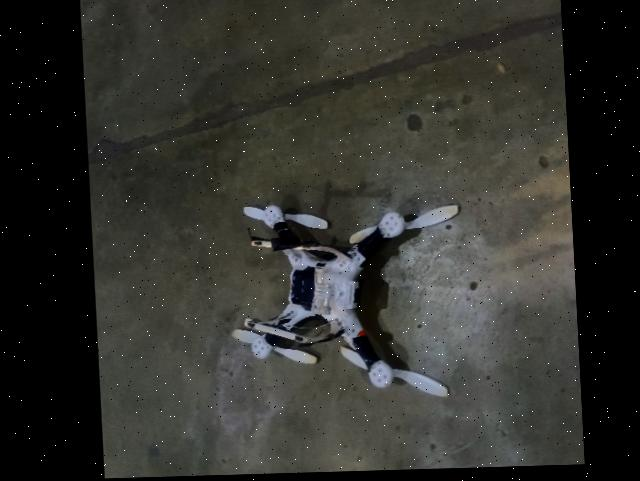drone: (221, 174, 475, 426)
